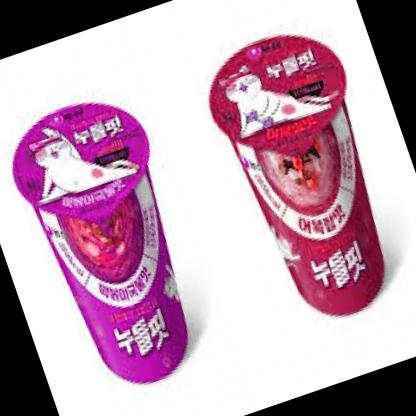Ramen: (189, 6, 416, 341), (0, 77, 229, 404)
